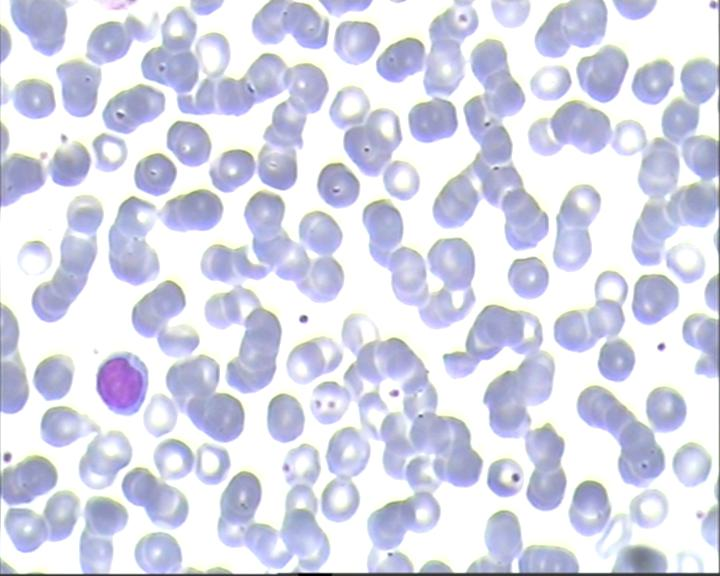lymp: (90, 350, 151, 421)
